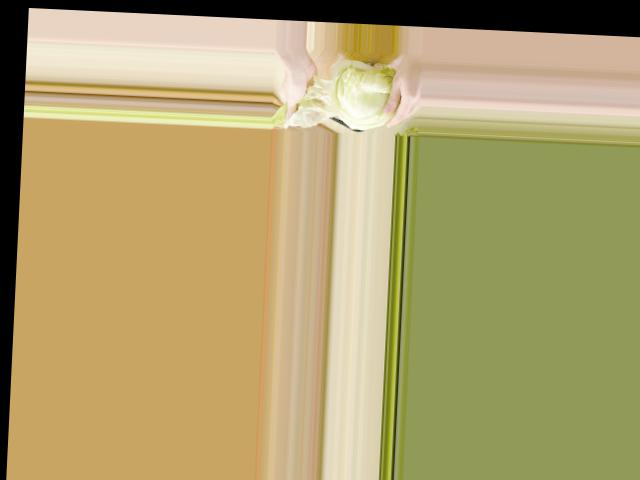lettuce: (312, 53, 402, 134)
